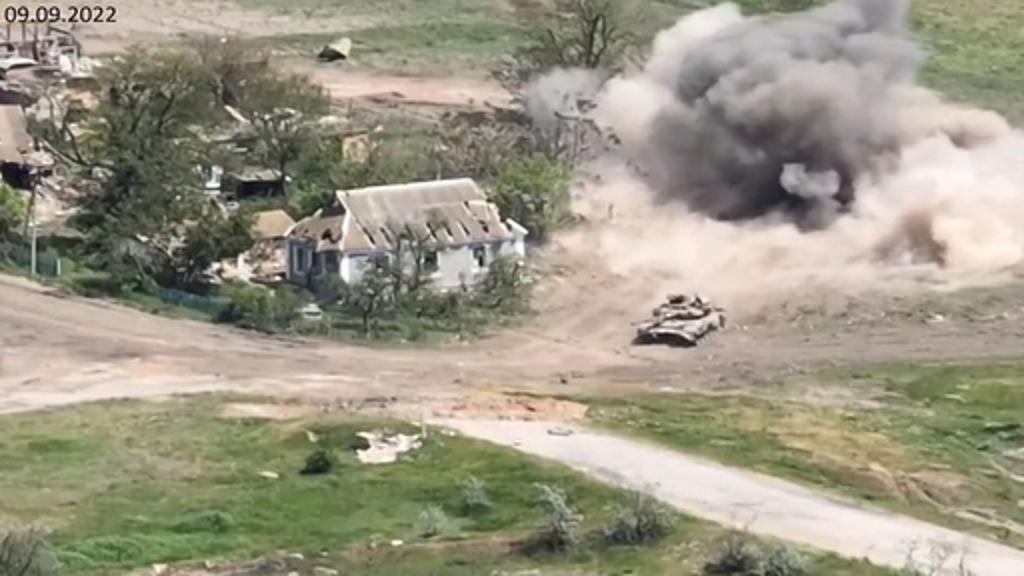TANK: (616, 284, 726, 354)
